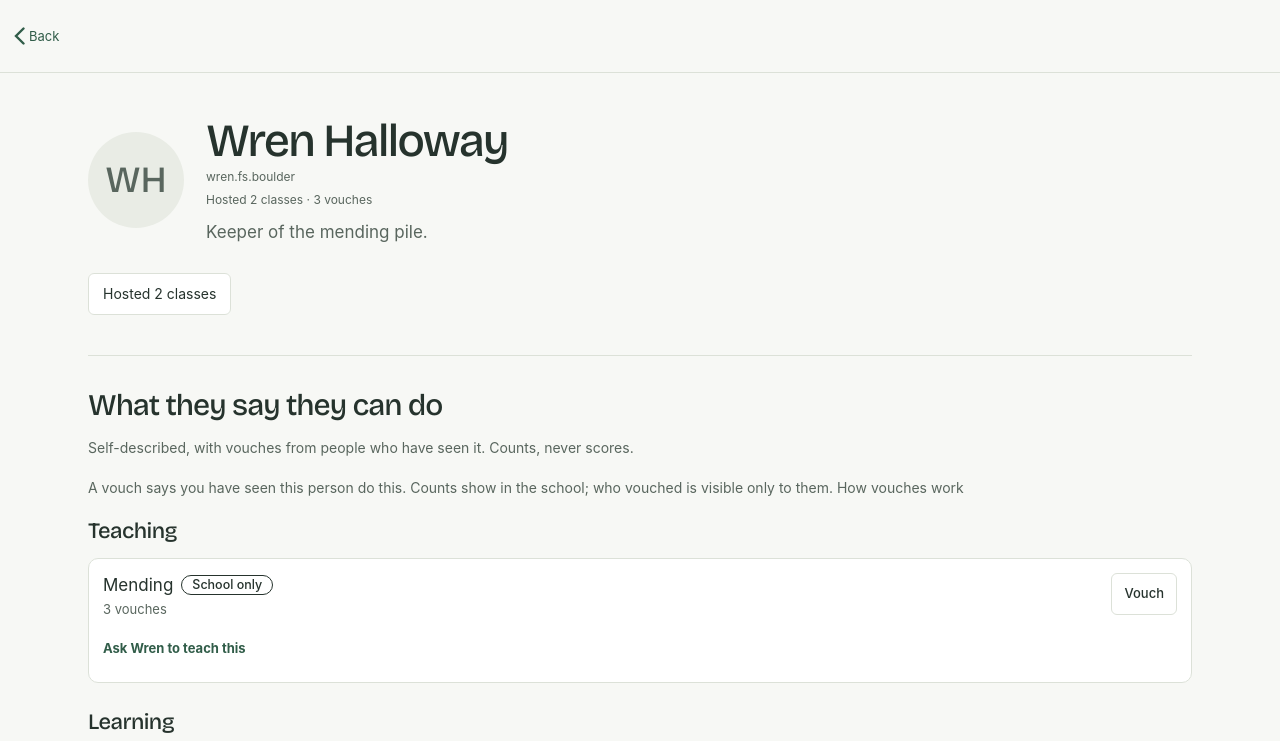
Test: MemberProfileScreen › "Ask <name> to teach this" › posts an ordinary request for that skill, addressed to them
This screenshot has width=1280, height=741.
Click the button "Ask Wren to teach this" at {"x": 174, "y": 648}, box [103,628,246,668]
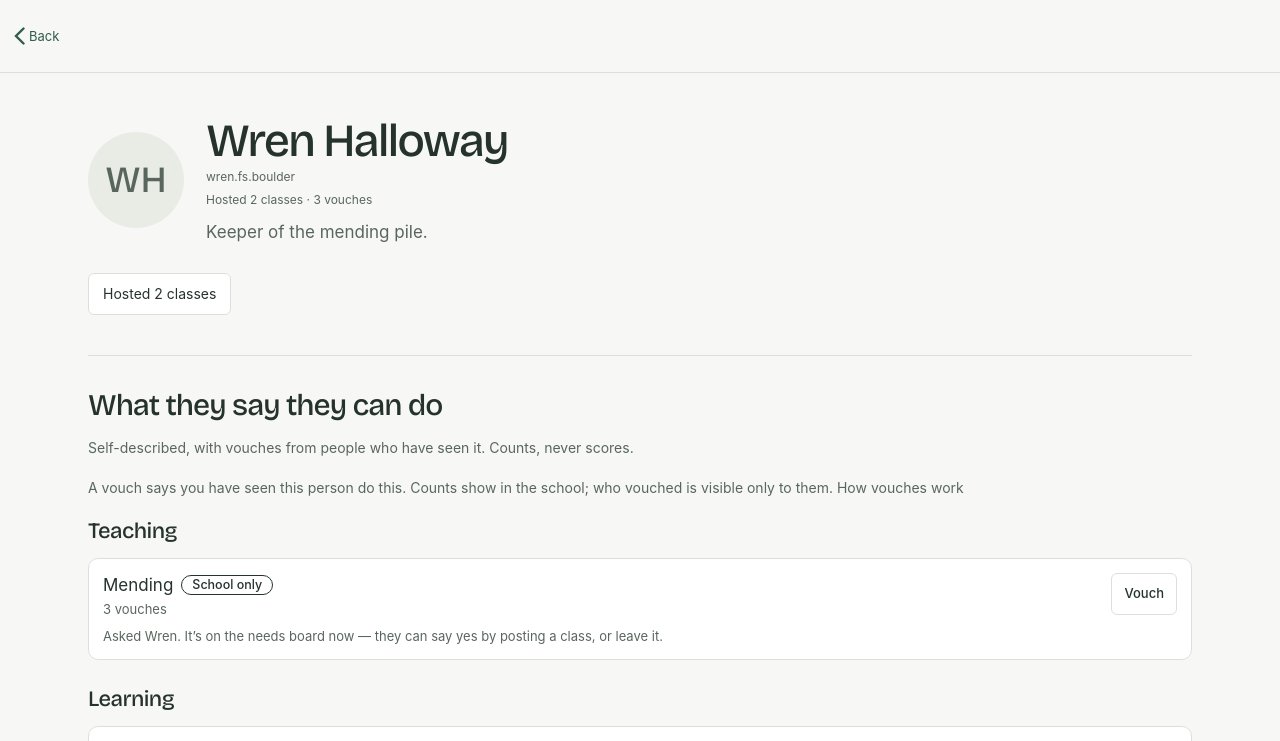
Now the text "Asked Wren." is shown, box [103,628,663,644]
